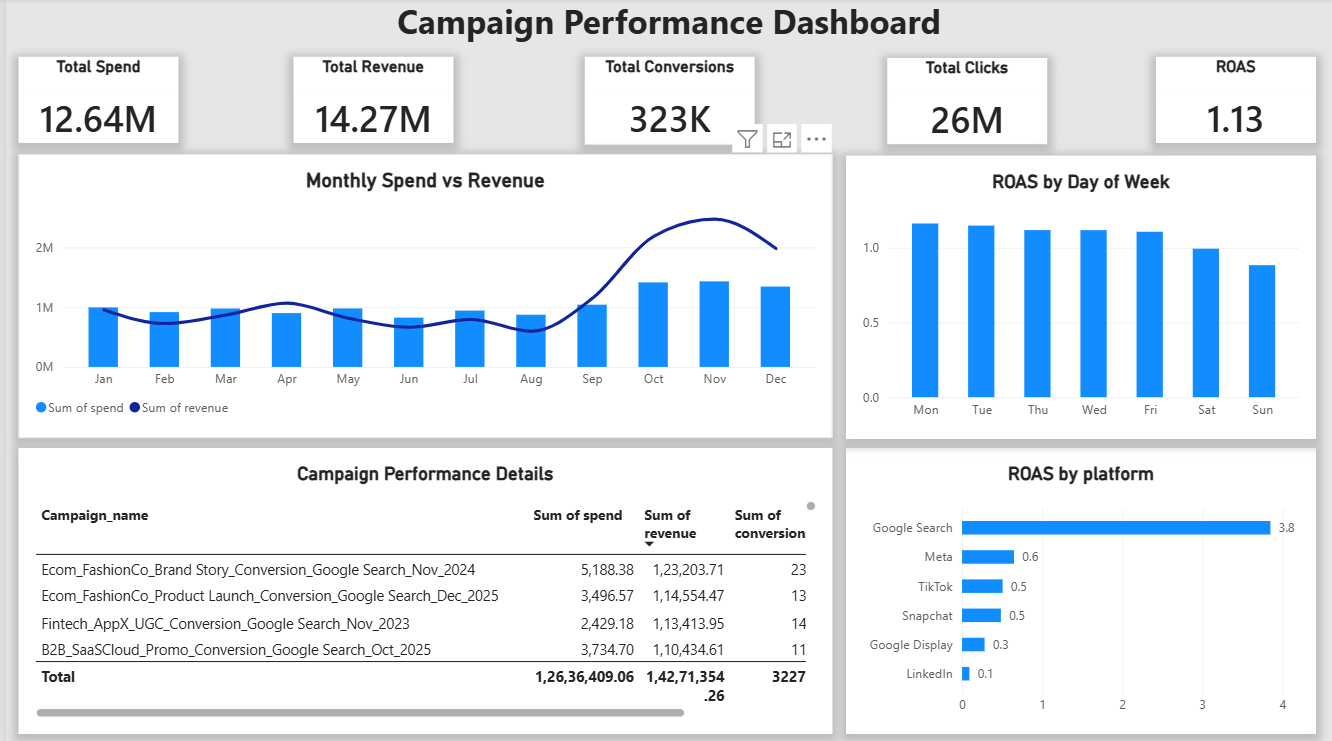

Layout of this report page (visuals, bound fields, positions):
{"tool":"powerbi","page":{"name":"Campaign Performance","canvas":[1280,720],"ordinal":0},"visuals":[{"type":"cardVisual","title":"Total Spend","fields":{"Data":["campaign_iq campaign_iq_cleaned_full.Total Spend"]},"box":[12.1,56.7,154.4,83.2],"z":0},{"type":"cardVisual","title":"Total Revenue","fields":{"Data":["campaign_iq campaign_iq_cleaned_full.Total Revenue"]},"box":[277.5,56.7,154,83],"z":1000},{"type":"cardVisual","title":"Total Conversions","fields":{"Data":["campaign_iq campaign_iq_cleaned_full.Total Conversions"]},"box":[558.6,56.7,164.1,84.5],"z":2000},{"type":"cardVisual","title":"Total Clicks","fields":{"Data":["campaign_iq campaign_iq_cleaned_full.Total Clicks"]},"box":[850.5,57.9,154,83],"z":3000},{"type":"cardVisual","title":"ROAS","fields":{"Data":["campaign_iq campaign_iq_cleaned_full.Roass"]},"box":[1109.9,56.7,154,83],"z":4000},{"type":"clusteredBarChart","title":"ROAS by platform","fields":{"Category":["campaign_iq campaign_iq_cleaned_full.platform"],"Y":["Avg(campaign_iq campaign_iq_cleaned_full.ROAS)"]},"box":[810.7,434.3,453.6,276.3],"z":5000},{"type":"lineClusteredColumnComboChart","title":"Monthly Spend vs Revenue","fields":{"Category":["campaign_iq campaign_iq_cleaned_full.month_name"],"Y":["Sum(campaign_iq campaign_iq_cleaned_full.spend)"],"Y2":["Sum(campaign_iq campaign_iq_cleaned_full.revenue)"]},"box":[12.1,150.8,785.4,273.9],"z":6000},{"type":"clusteredColumnChart","title":"ROAS by Day of Week","fields":{"Category":["campaign_iq campaign_iq_cleaned_full.day_of_week"],"Y":["Avg(campaign_iq campaign_iq_cleaned_full.ROAS)"]},"box":[810.7,152,453.6,273.9],"z":7000},{"type":"tableEx","title":"Campaign Performance Details","fields":{"Values":["campaign_iq campaign_iq_cleaned_full.campaign_name","Sum(campaign_iq campaign_iq_cleaned_full.spend)","Sum(campaign_iq campaign_iq_cleaned_full.revenue)","Sum(campaign_iq campaign_iq_cleaned_full.conversions)","Avg(campaign_iq campaign_iq_cleaned_full.ROAS)"]},"box":[12.1,434.3,785.4,276.3],"z":8000},{"type":"textbox","box":[0,0,1280,54.3],"z":9000}]}

Visuals, with their boxes in screenshot pixels (x1, y1, x2, y2), scaled from the page's 1280x720 canvas onto the 1332x741 screenshot:
"Total Spend" cardVisual: region(13, 58, 173, 144)
"Total Revenue" cardVisual: region(289, 58, 449, 144)
"Total Conversions" cardVisual: region(581, 58, 752, 145)
"Total Clicks" cardVisual: region(885, 60, 1045, 145)
"ROAS" cardVisual: region(1155, 58, 1315, 144)
"ROAS by platform" clusteredBarChart: region(844, 447, 1316, 731)
"Monthly Spend vs Revenue" lineClusteredColumnComboChart: region(13, 155, 830, 437)
"ROAS by Day of Week" clusteredColumnChart: region(844, 156, 1316, 438)
"Campaign Performance Details" tableEx: region(13, 447, 830, 731)
textbox: region(0, 0, 1331, 56)
